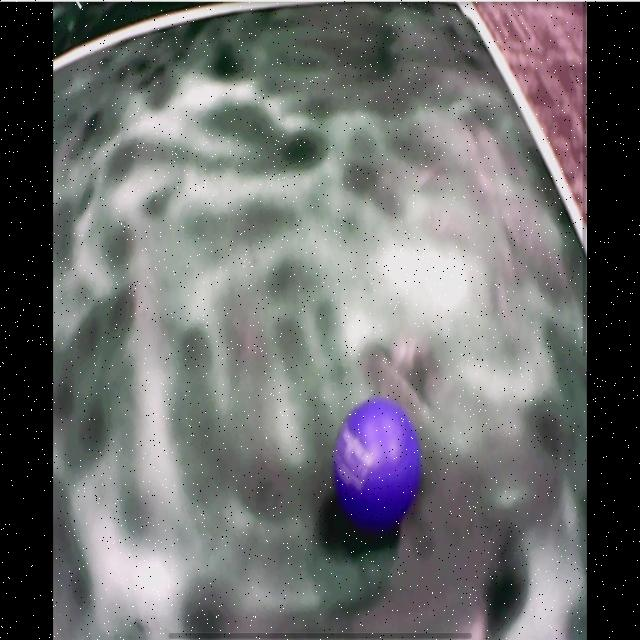ball: (335, 399, 422, 526)
